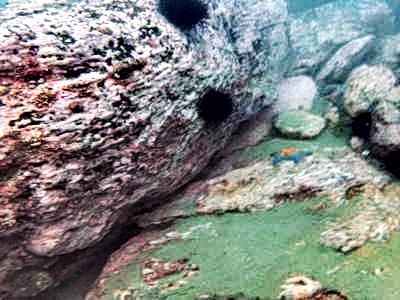urchin: (156, 1, 214, 33), (194, 89, 234, 125)
